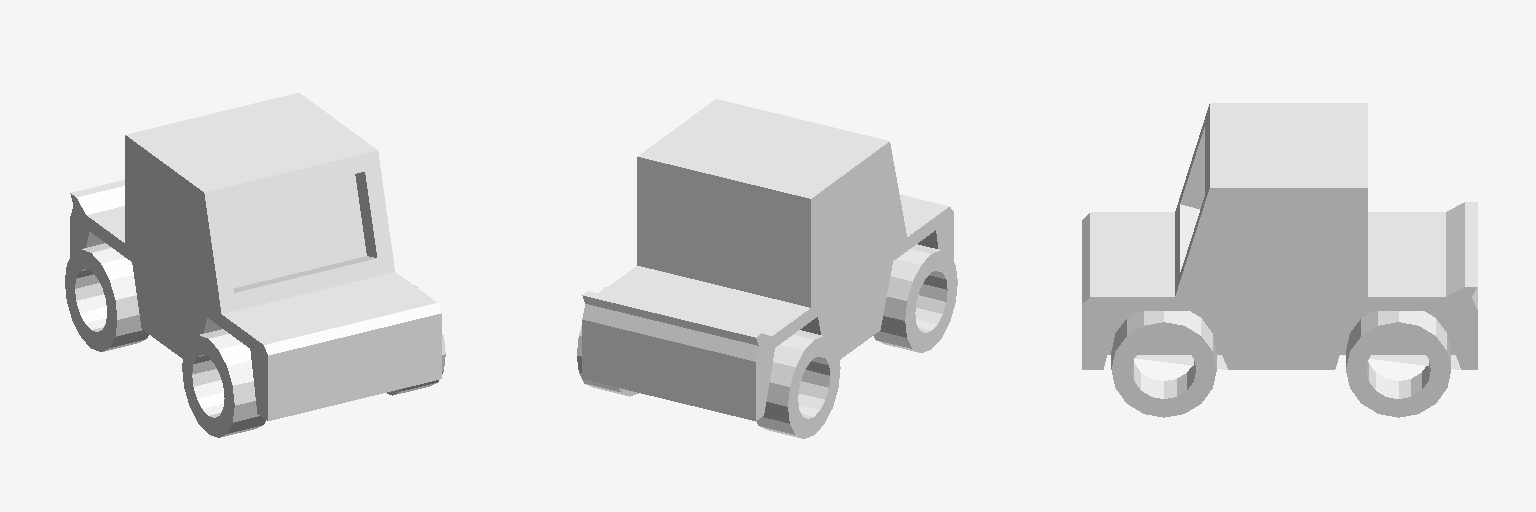
Rendered from na_bil.obj.
The picture shows the model from 3 angles: view 1: azimuth 30°, elevation 25°; view 2: azimuth 150°, elevation 25°; view 3: azimuth 270°, elevation 25°; orthographic projection.
Parts seen in each view (by area): view 1: Cube, Tube.2, Tube.3; view 2: Cube, Tube.3, Tube.2; view 3: Cube, Tube, Tube.1.
Boxes of the visible parts, x1=… form: Cube: x1=70, y1=93, x2=441, y2=420; Tube.2: x1=65, y1=243, x2=148, y2=351; Tube.3: x1=182, y1=329, x2=265, y2=437; Cube: x1=582, y1=99, x2=953, y2=420; Tube.3: x1=873, y1=244, x2=957, y2=352; Tube.2: x1=756, y1=330, x2=840, y2=438; Cube: x1=1082, y1=103, x2=1477, y2=369; Tube: x1=1111, y1=311, x2=1216, y2=417; Tube.1: x1=1346, y1=311, x2=1450, y2=417.
Size of the model in its own units: 3.47 by 3.46 by 5.62.